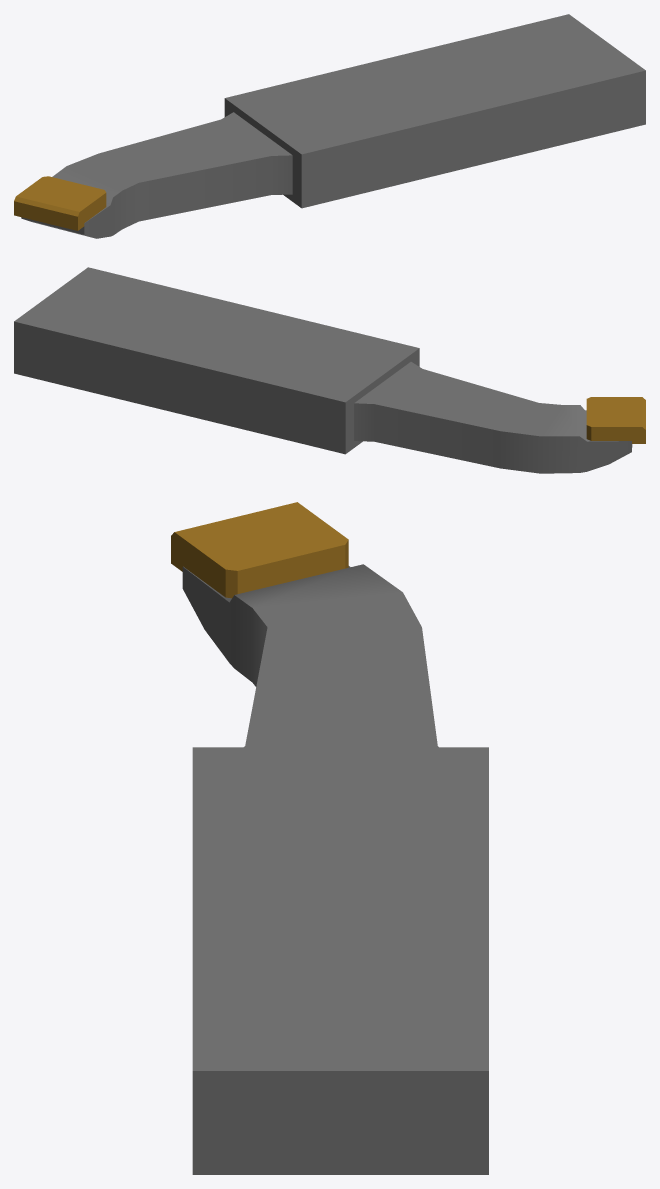
The model's file is Cutter8.fbx.
3 renders of one model, top to bottom at view 1: azimuth 30°, elevation 25°; view 2: azimuth 150°, elevation 25°; view 3: azimuth 270°, elevation 25°, orthographic. The views are drawn at different scales.
Visible parts, largest first — view 1: Cutter-8; view 2: Cutter-8; view 3: Cutter-8.
Boxes of the visible parts, bbox=[...] form: Cutter-8: bbox=[14, 14, 645, 238]; Cutter-8: bbox=[14, 267, 645, 473]; Cutter-8: bbox=[171, 502, 488, 1174].
Size of the model in its own units: 129 by 11.23 by 30.47.
